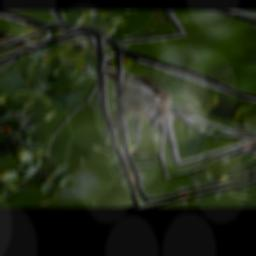Cuckoo: (75, 64, 191, 129)
